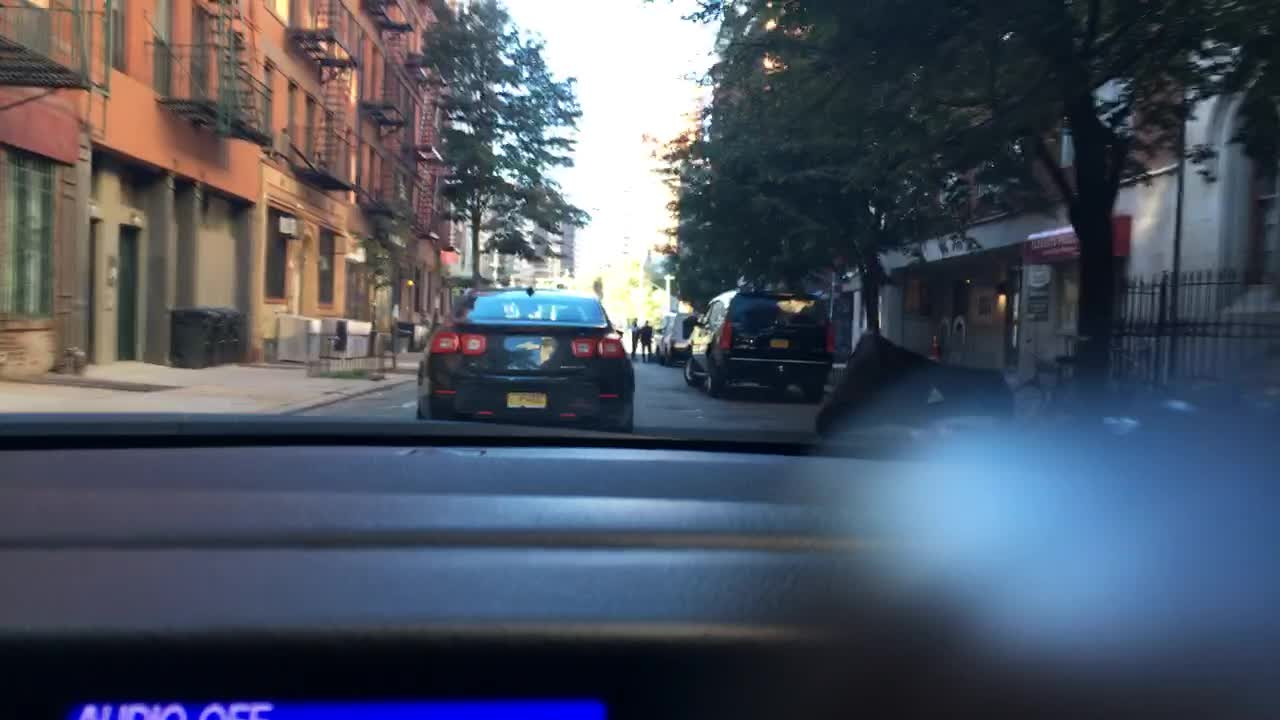bike: (1005, 347, 1179, 431)
car: (417, 281, 634, 431), (682, 287, 837, 401), (667, 306, 701, 363), (655, 307, 676, 365)
person: (640, 317, 655, 364), (629, 316, 640, 361)
